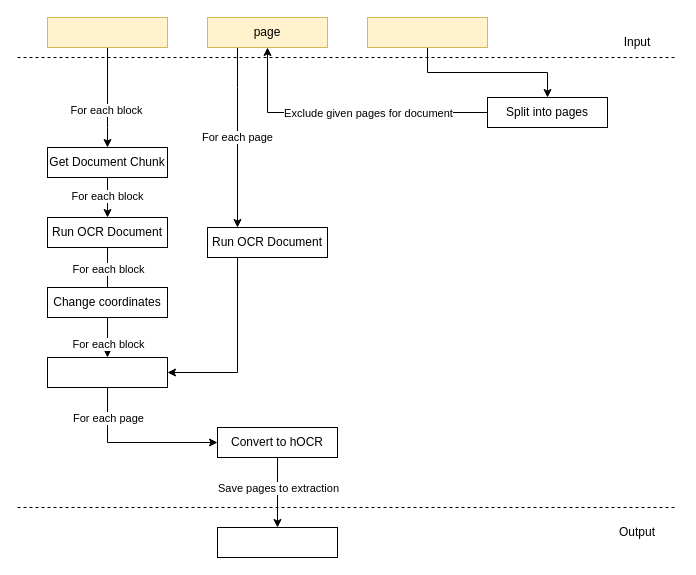
Image size: 696x575. Some labels were removed from this diagram. The centre of each missing label's shape, as x and y in pixels:
"block" goes at (x=107, y=32).
"document" goes at (x=427, y=32).
"Merge to Pages" goes at (x=107, y=372).
"Save extraction" goes at (x=277, y=542).
